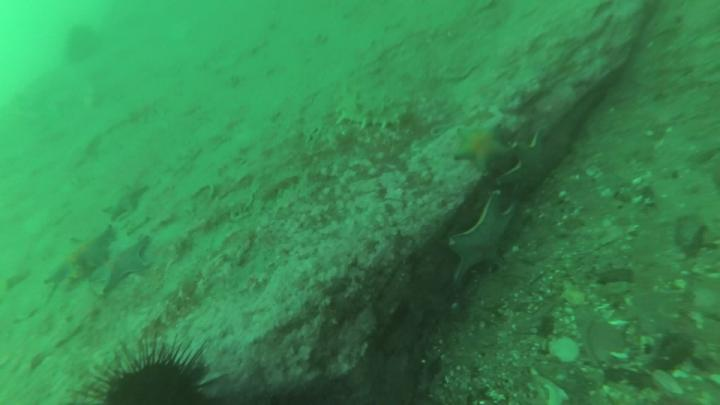echinus: (75, 338, 212, 405), (62, 21, 103, 69)
holothurian: (335, 82, 410, 131)
scallop: (548, 335, 581, 366)
starfish: (444, 192, 518, 298), (42, 223, 117, 291), (502, 125, 556, 200), (99, 238, 155, 301), (452, 125, 506, 177), (102, 184, 150, 221)
